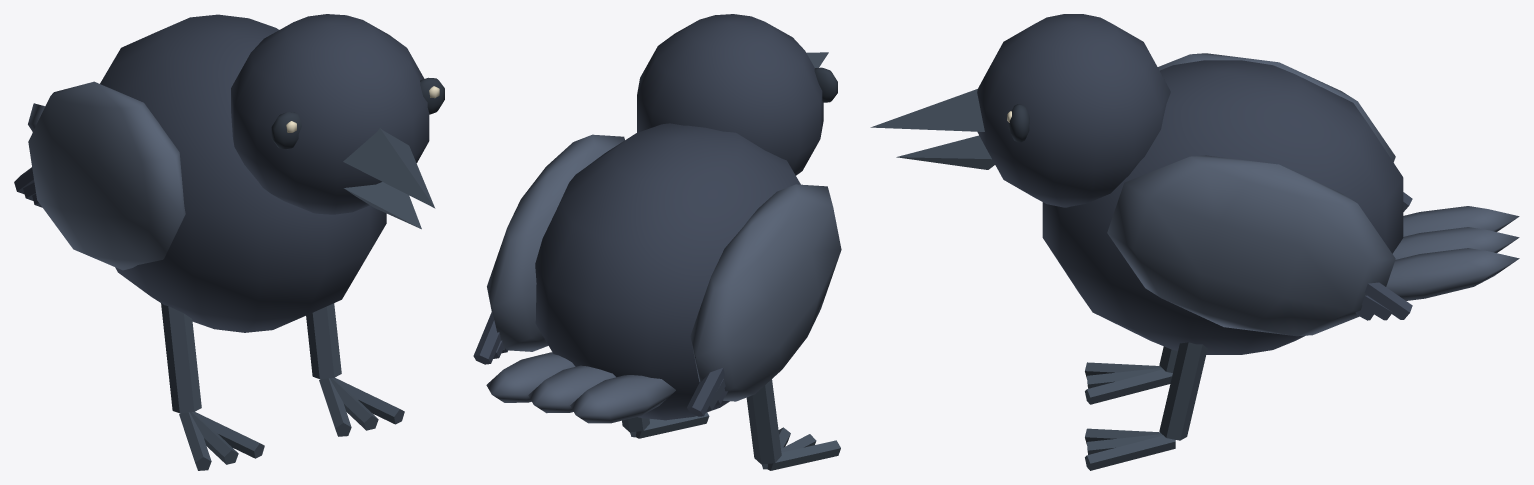
The model's file is crow.glb.
3 renders of one model, left to right at view 1: azimuth 30°, elevation 25°; view 2: azimuth 150°, elevation 25°; view 3: azimuth 270°, elevation 25°, orthographic. The views are drawn at different scales.
Visible parts, largest first — view 1: Plump crow body, Cocky crow head, Folded wing, Upper cawing beak, Crow leg, Crow leg.001, Lower cawing beak, Three small toes.002, Three small toes.005, Three small toes.003, Three small toes, Three small toes.001 (+3 smaller); view 2: Plump crow body, Folded wing, Cocky crow head, Folded wing.001, Scruffy tail feather, Scruffy tail feather.002, Scruffy tail feather.001, Crow leg, Three small toes, Folded flight feather.002, Three small toes.003, Folded flight feather.005 (+1 smaller); view 3: Folded wing.001, Plump crow body, Cocky crow head, Scruffy tail feather.002, Crow leg.001, Upper cawing beak, Scruffy tail feather.001, Scruffy tail feather, Lower cawing beak, Folded wing, Three small toes.005, Three small toes.002 (+1 smaller).
Boxes of the visible parts, x1,y1,x2,y2 form: Plump crow body: (100, 14, 386, 332); Cocky crow head: (231, 14, 429, 214); Folded wing: (28, 81, 185, 270); Upper cawing beak: (343, 128, 435, 208); Crow leg: (161, 303, 201, 413); Crow leg.001: (306, 303, 341, 378); Lower cawing beak: (344, 182, 421, 229); Three small toes.002: (192, 412, 264, 458); Three small toes.005: (332, 377, 404, 424); Three small toes.003: (319, 378, 351, 436); Three small toes: (179, 412, 211, 470); Three small toes.001: (190, 412, 238, 464); Plump crow body: (535, 123, 800, 420); Folded wing: (690, 184, 841, 401); Cocky crow head: (637, 14, 823, 175); Folded wing.001: (487, 134, 624, 351); Scruffy tail feather: (570, 375, 675, 423); Scruffy tail feather.002: (486, 352, 575, 402); Scruffy tail feather.001: (528, 365, 615, 413); Crow leg: (746, 379, 781, 464); Three small toes: (767, 440, 840, 470); Folded flight feather.002: (687, 368, 724, 416); Three small toes.003: (636, 412, 709, 438); Folded flight feather.005: (473, 312, 500, 364); Folded wing.001: (1107, 155, 1395, 336); Plump crow body: (1042, 60, 1403, 354); Cocky crow head: (977, 14, 1170, 207); Scruffy tail feather.002: (1386, 248, 1519, 300); Crow leg.001: (1159, 342, 1207, 440); Upper cawing beak: (870, 89, 984, 131); Scruffy tail feather.001: (1392, 227, 1519, 259); Scruffy tail feather: (1403, 206, 1519, 236); Lower cawing beak: (896, 135, 994, 169); Folded wing: (1157, 53, 1395, 162); Three small toes.005: (1085, 435, 1175, 470); Three small toes.002: (1085, 369, 1172, 404).
Bounding box in the file's own units: 0.1917 × 0.2784 × 0.4.
